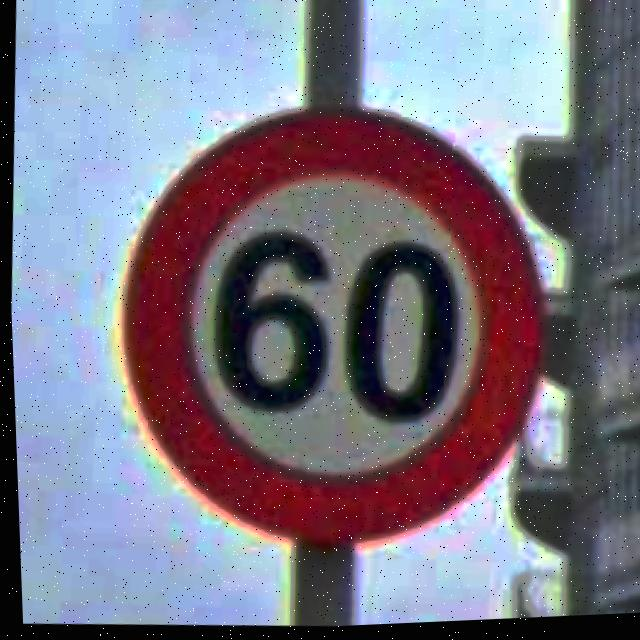max60: (99, 86, 564, 572)
